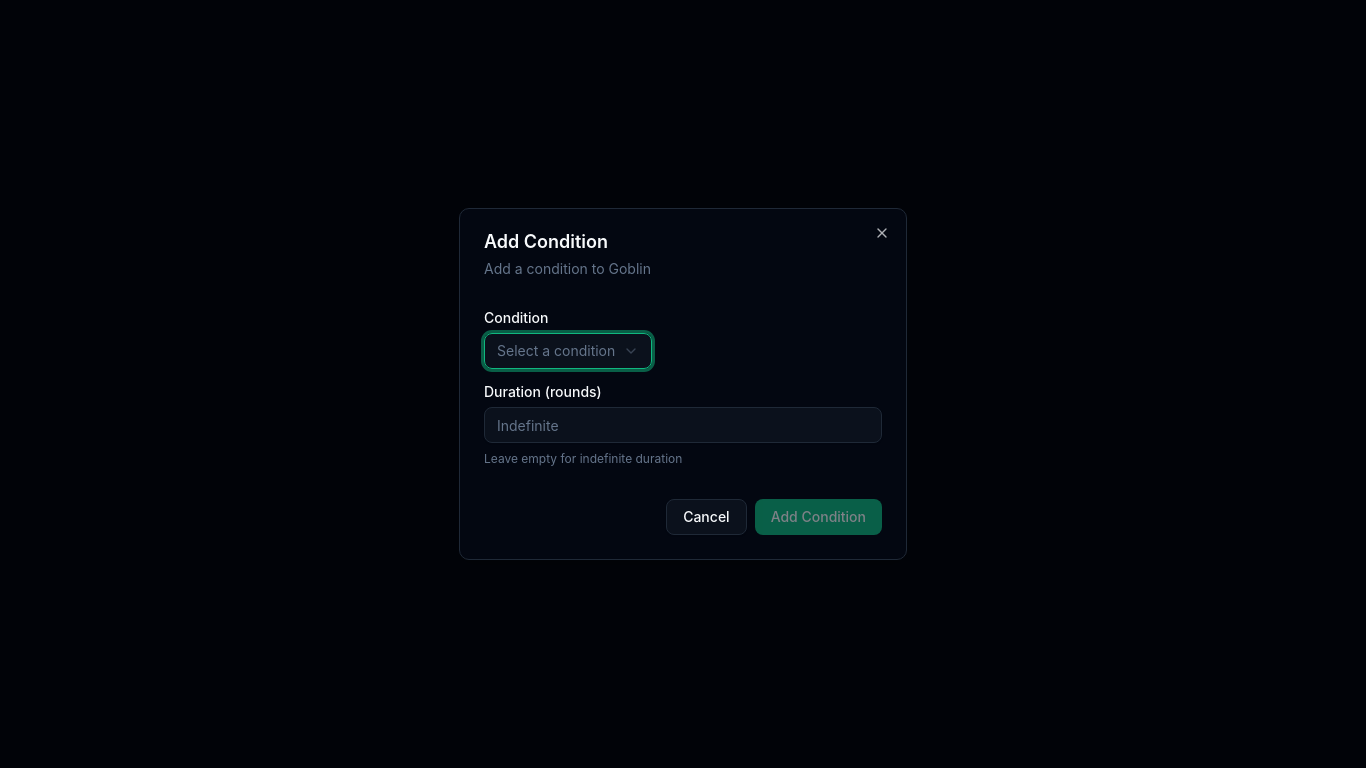
it: AddConditionDialog › Condition Filtering › should filter out existing conditions
Note: Open select
Click the dropdown at [568, 351], box [484,333,652,369]
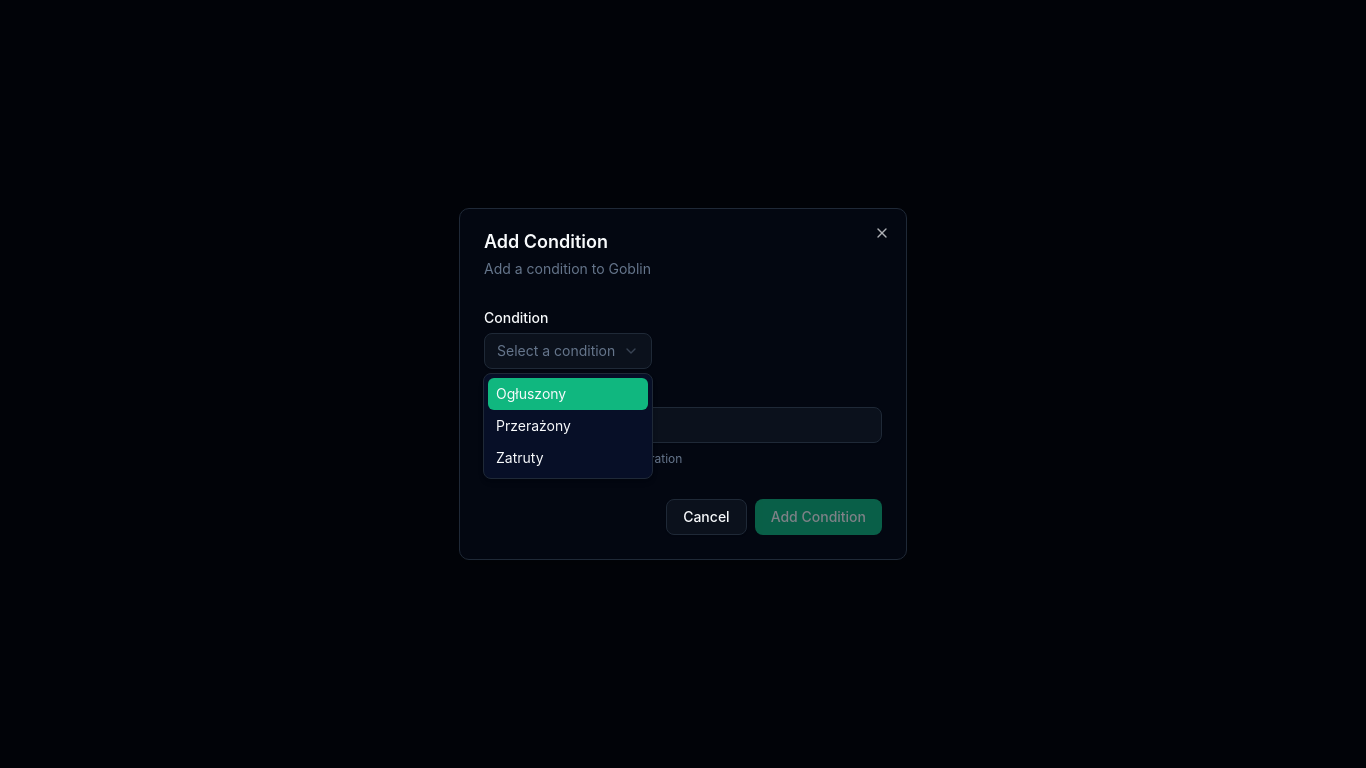
Now the option "Ogłuszony" is shown, box [488,378,648,410]
Now the option "Przerażony" is shown, box [496,417,571,434]
Now the option "Zatruty" is shown, box [496,449,544,466]
